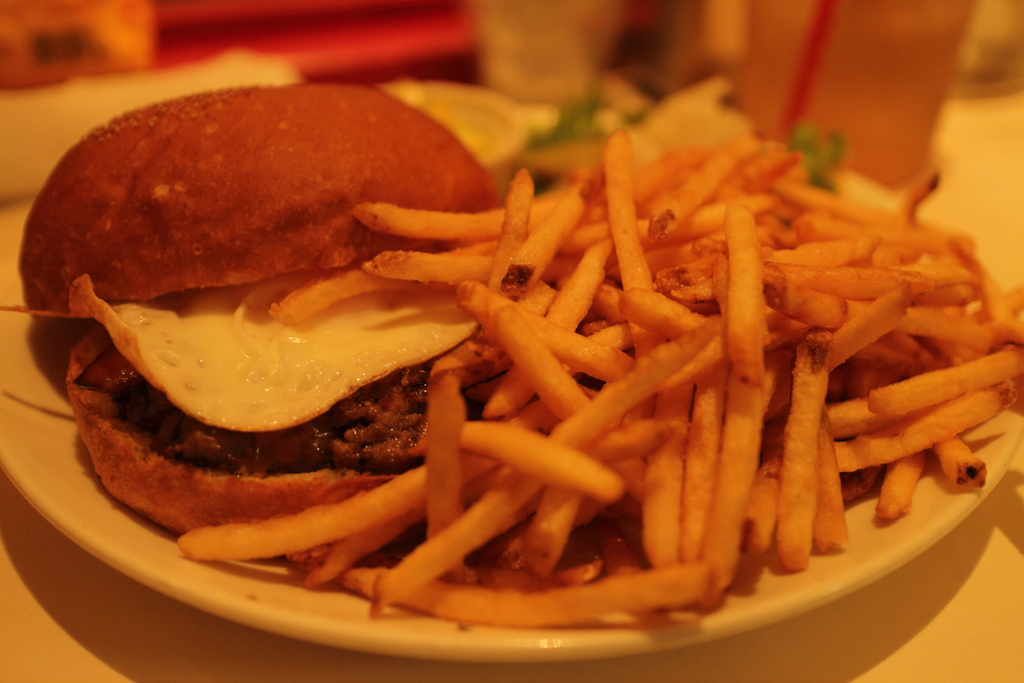French fries: (105, 105, 926, 645)
